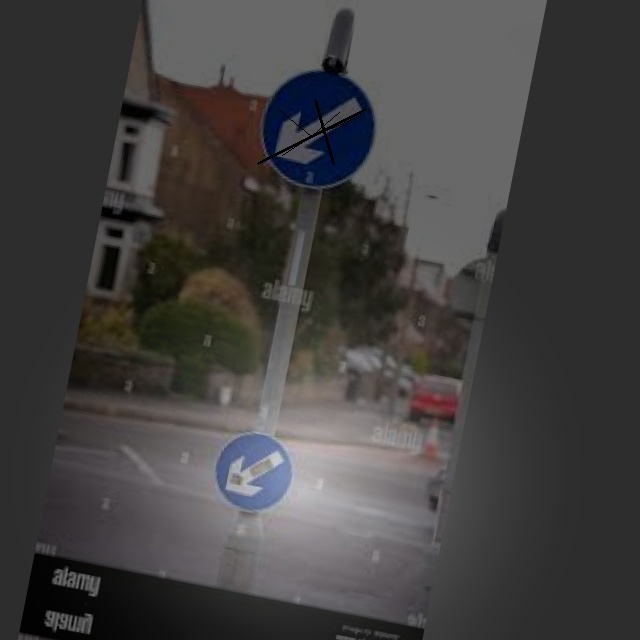Compulsory_Keep_Left: (250, 60, 386, 198)
